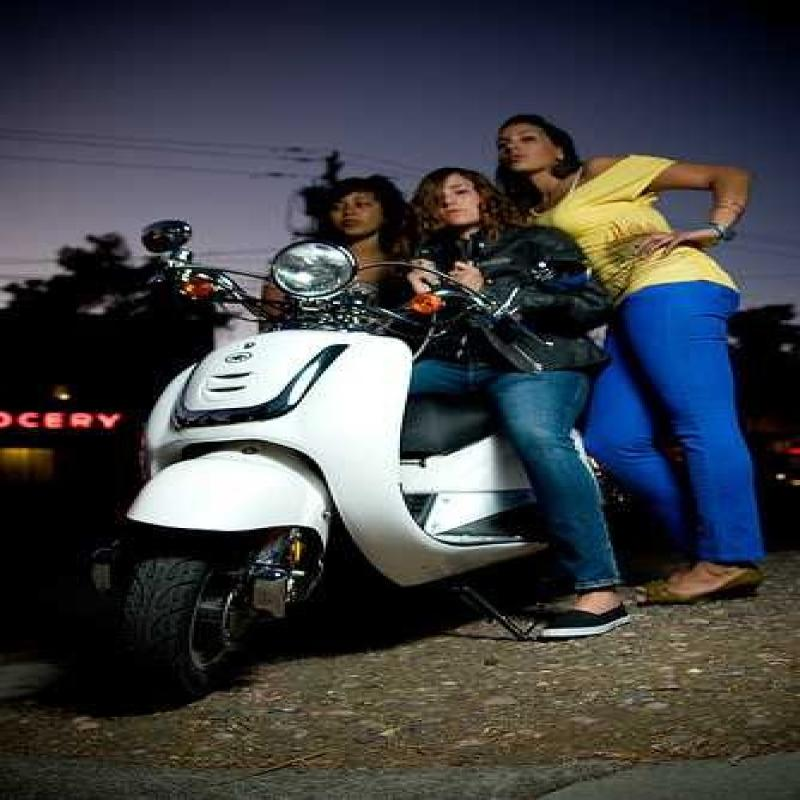bike: (96, 203, 520, 720)
